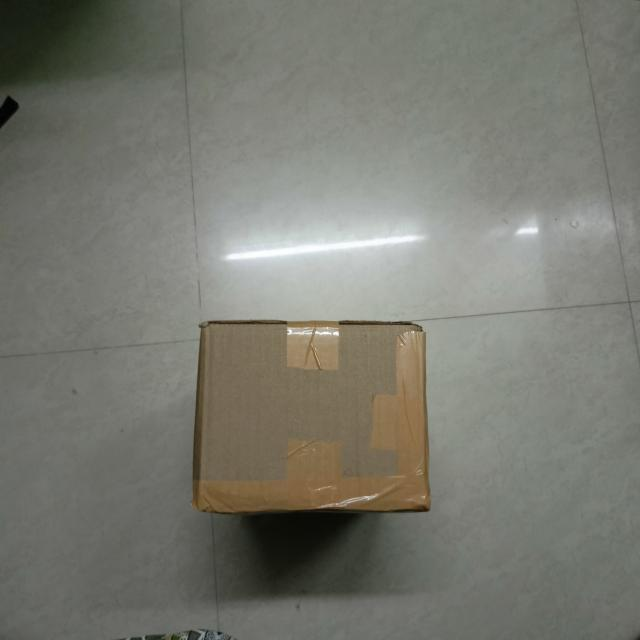box: (197, 323, 425, 509)
